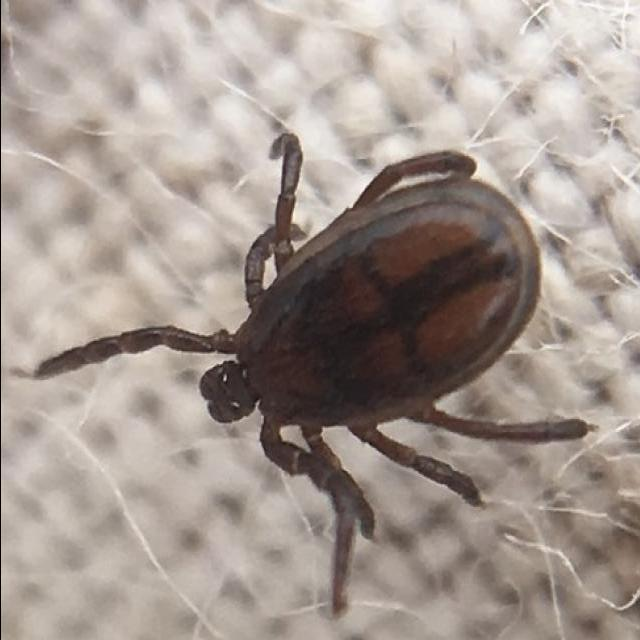Ixodes Ricinus-M: (32, 133, 595, 618)
